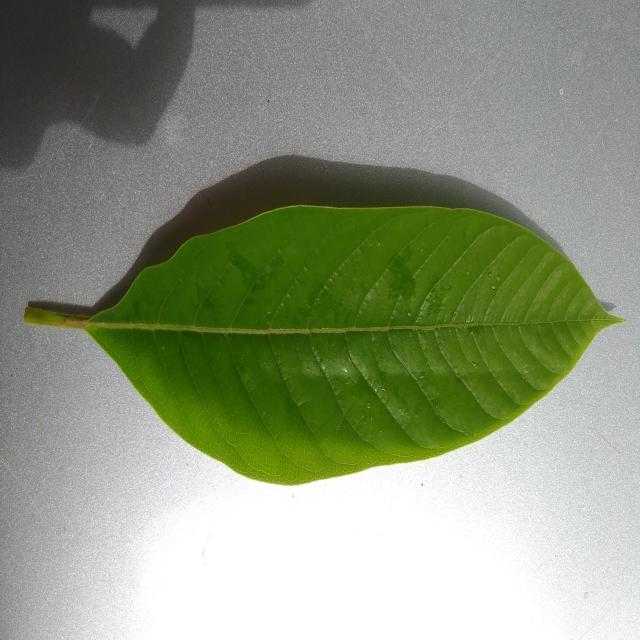coffee: (24, 207, 621, 484)
